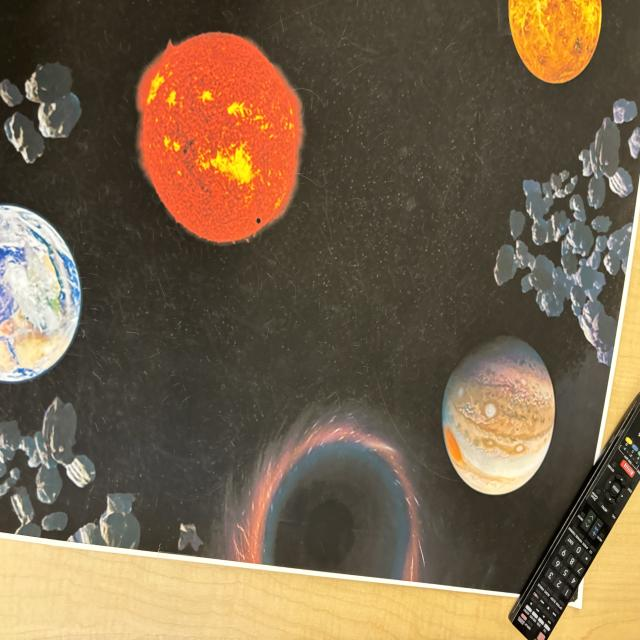Asteroids: (0, 394, 205, 551), (509, 103, 640, 340), (0, 54, 84, 162)
Black Hole: (261, 444, 418, 564)
Earth: (0, 194, 86, 381)
Jupiter: (443, 333, 552, 498)
Sun: (139, 33, 301, 254)
Venus: (504, 0, 599, 88)
